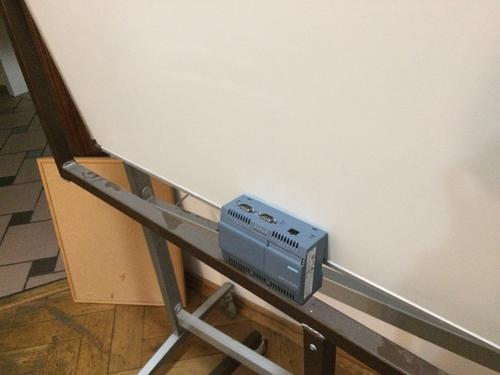iot2000: (218, 194, 329, 307)
